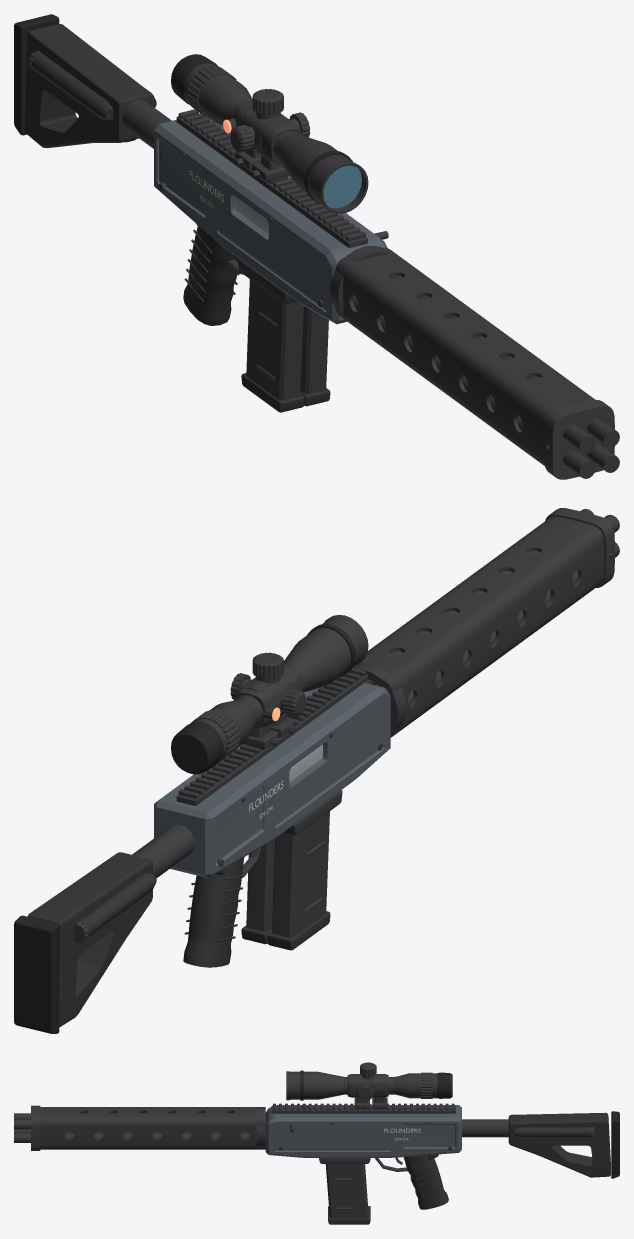
Rendered from flounders.glb.
3 views of the same model, one above another, from view 1: azimuth 30°, elevation 25°; view 2: azimuth 150°, elevation 25°; view 3: azimuth 270°, elevation 25° (orthographic). The views are drawn at different scales.
Visible parts, largest first — view 1: Body; view 2: Body; view 3: Body.
Boxes of the visible parts, x1,y1,x2,y2 form: Body: (14, 14, 619, 479); Body: (14, 508, 619, 1033); Body: (14, 1062, 619, 1224).
Bounding box in the file's own units: 0.086 × 0.2888 × 1.03.
